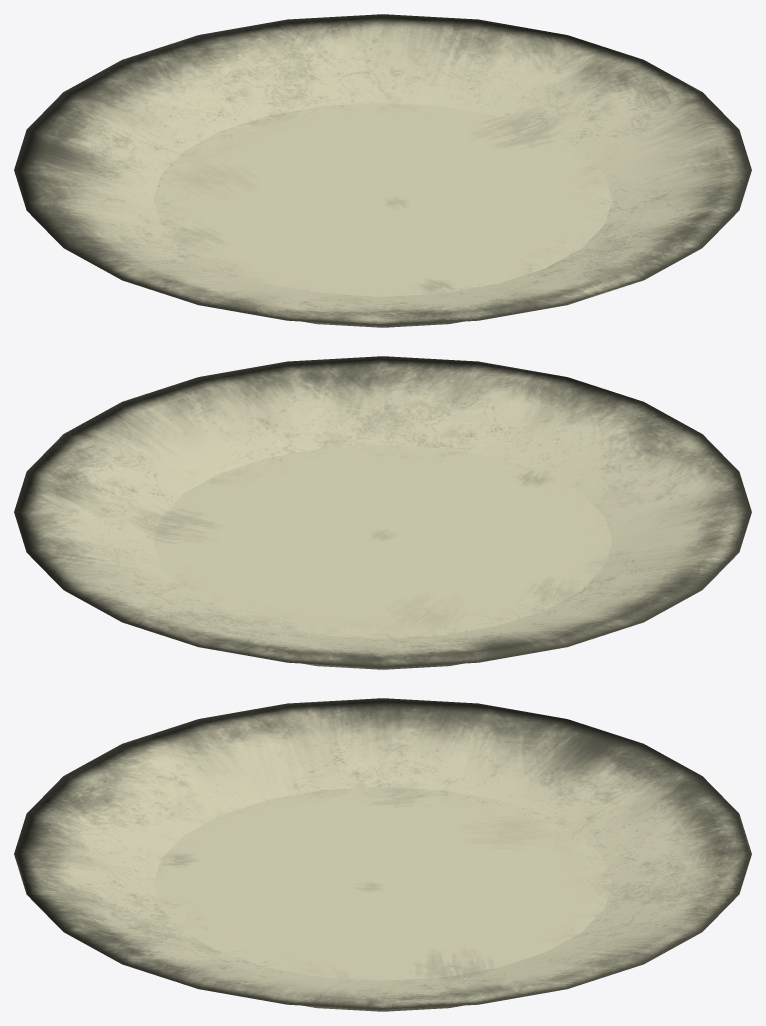
The picture shows the model from 3 angles, top to bottom: view 1: azimuth 30°, elevation 25°; view 2: azimuth 150°, elevation 25°; view 3: azimuth 270°, elevation 25°; orthographic projection.
Visible parts, largest first — view 1: plate.003; view 2: plate.003; view 3: plate.003.
Part boxes in pixels (x1,y1,x2,y2): plate.003: (14,14,751,327); plate.003: (14,356,751,669); plate.003: (14,698,751,1011).
Bounding box in the file's own units: 0.9771 × 0.0716 × 0.9771.
1 material, 1 textured.
